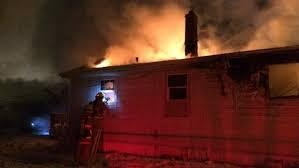fire: (90, 53, 113, 67)
